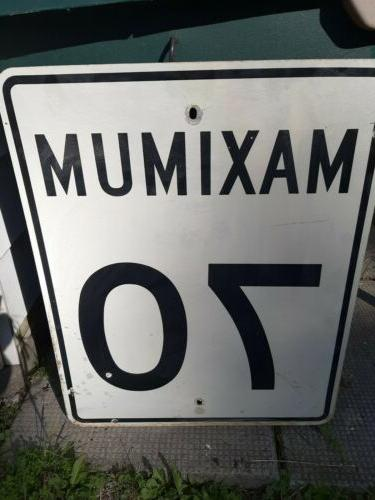speed limit sign: (3, 58, 372, 424)
